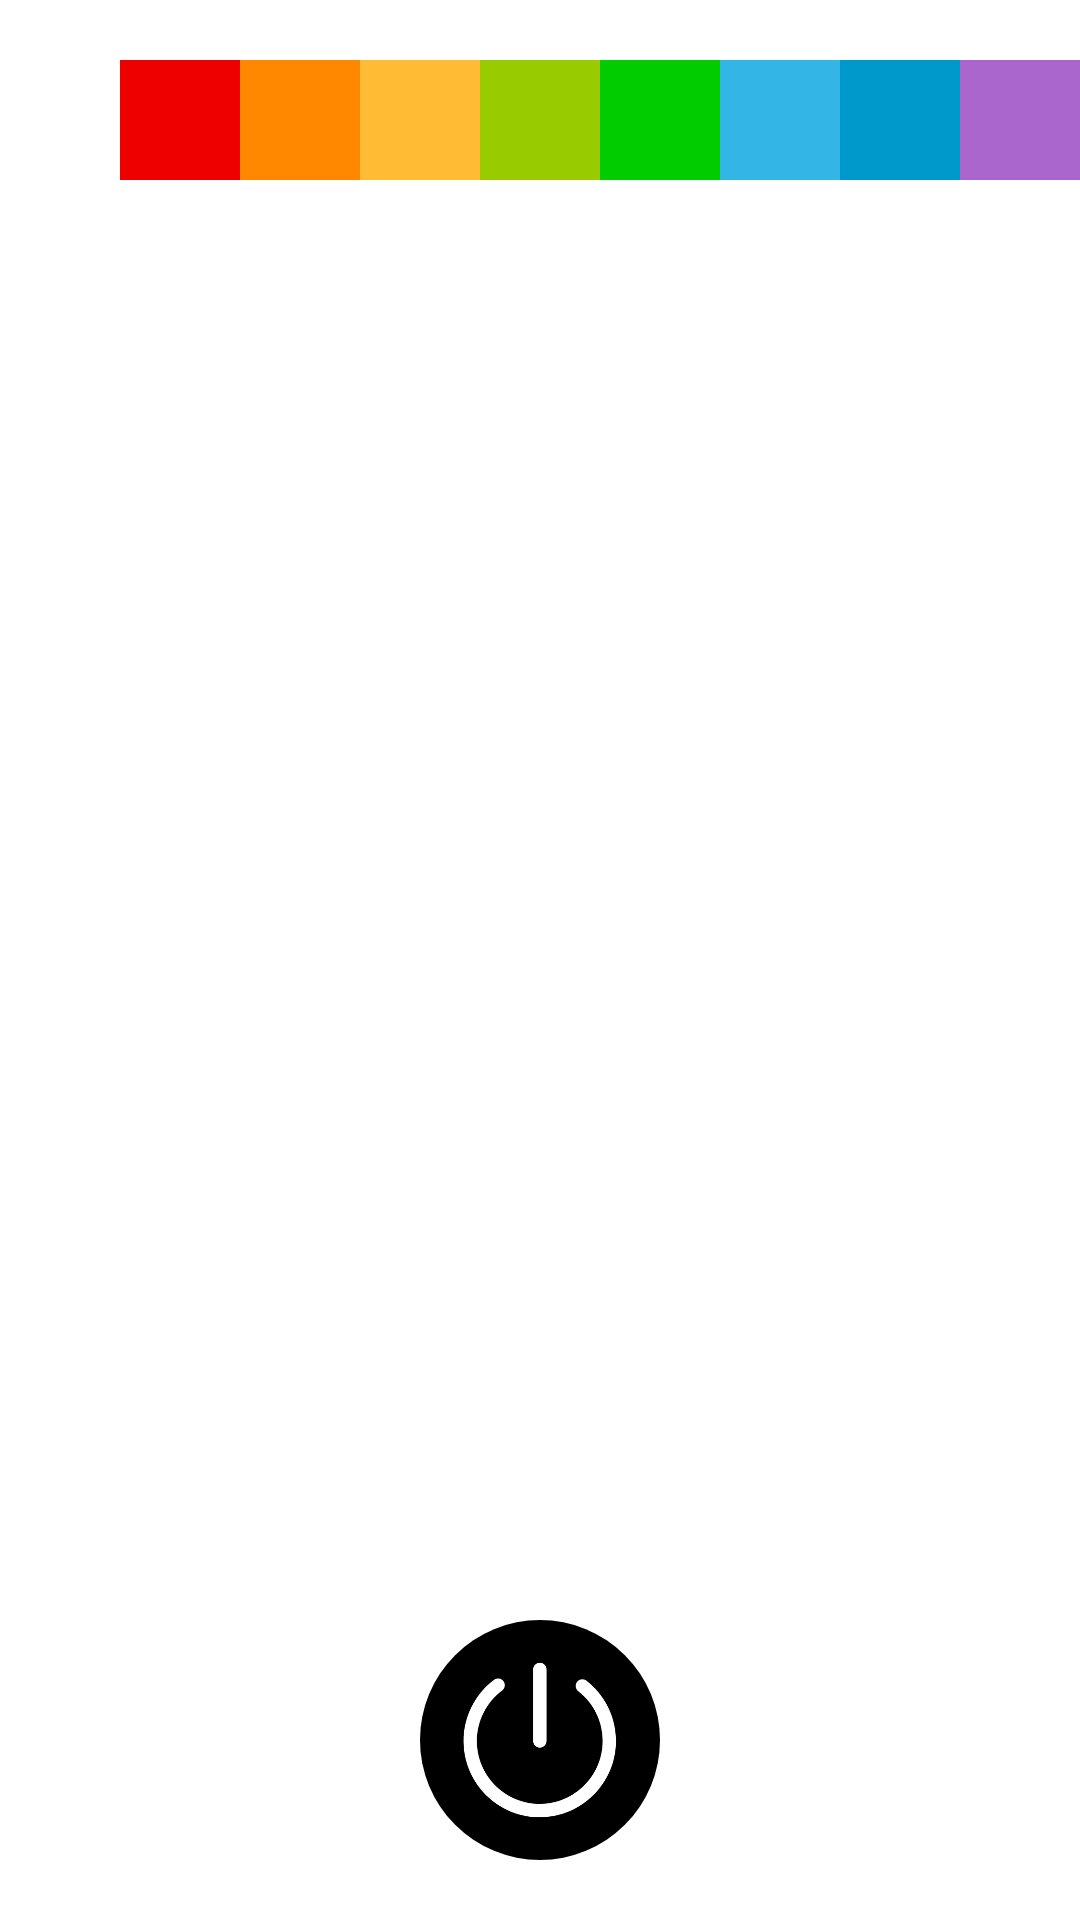

Icon click points for this 1080 × 1920 phone screenshot, format [x,y]:
power: [540,1740]
